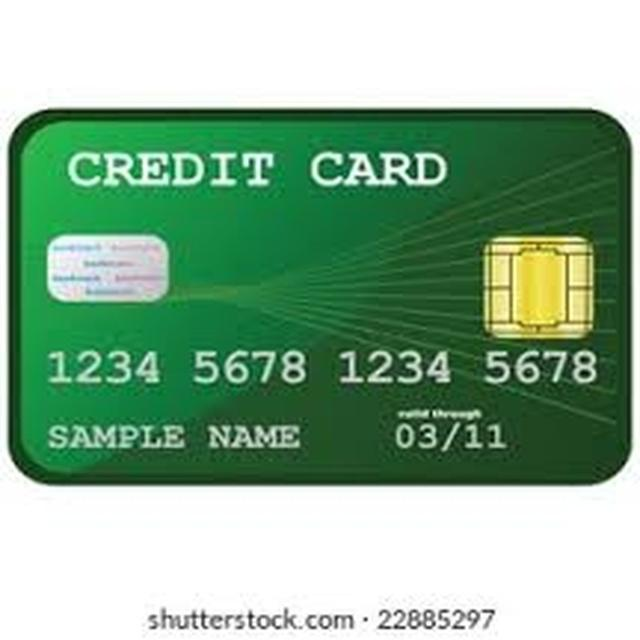card: (3, 93, 640, 513)
